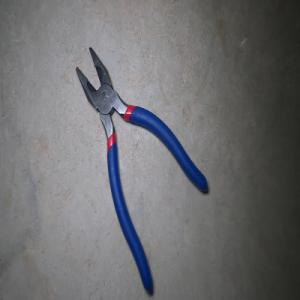Pliers: (75, 46, 208, 296)
